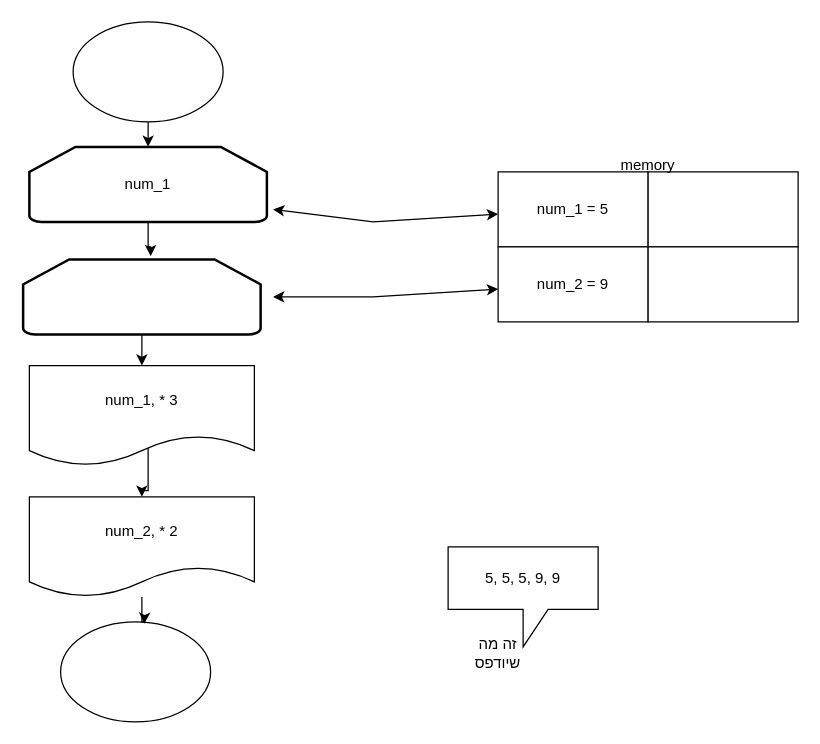
Some shapes in this 820 by 744 pixel diagram are drawn without their labels. Each missing label, with the centre of its shape:
num_2: (141,296)
start: (147,71)
stop: (135,671)
